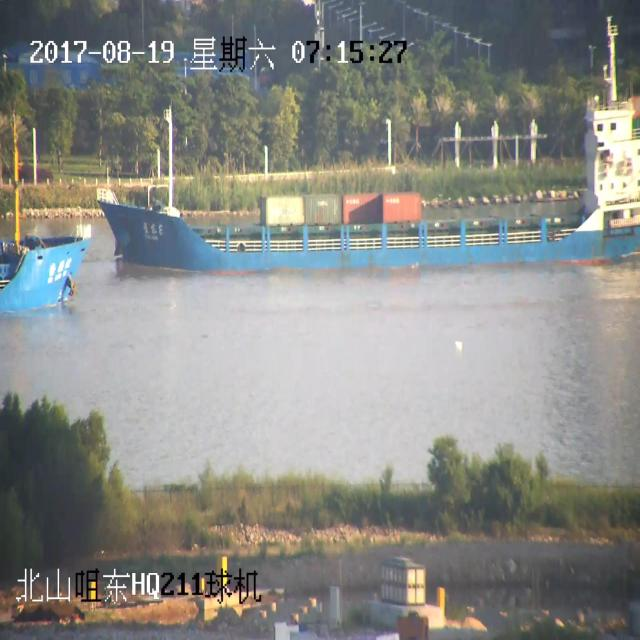cargoship: (105, 70, 632, 294)
